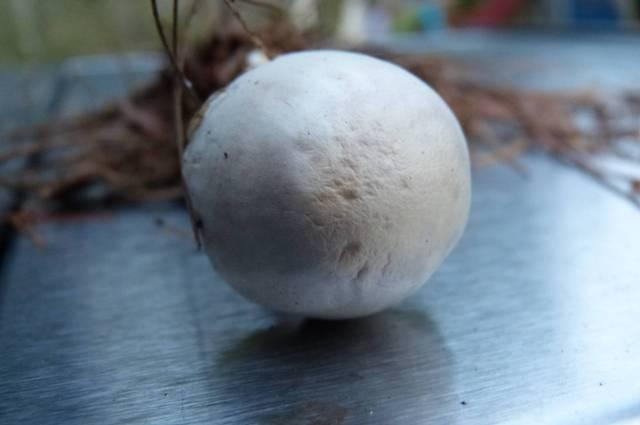poisonous_mushroom: (178, 47, 473, 322)
